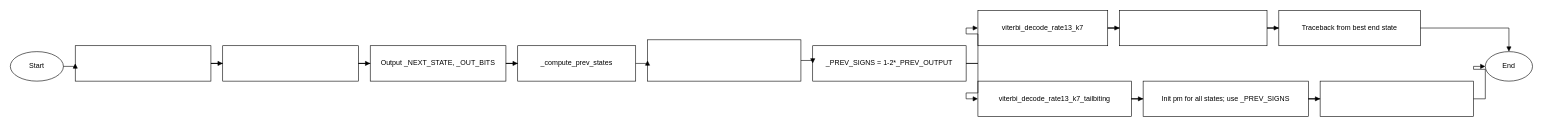
Some shapes in this 1543 by 127 pixel diagram are drawn without their labels. The shapes that lost their labels are listed below. From the top down, each one's centre as x and y in pixels, then its label:
At pixel 1193 28: "Init PM; loop symbols; branch metrics".
At pixel 143 63: "_build_trellis_rate13_k7".
At pixel 290 63: "Gens: 133,171,165 (octal)".
At pixel 724 60: "_PREV_STATE/_PREV_INPUT/_PREV_OUTPUT".
At pixel 1397 99: "Traceback with best start=best end".
